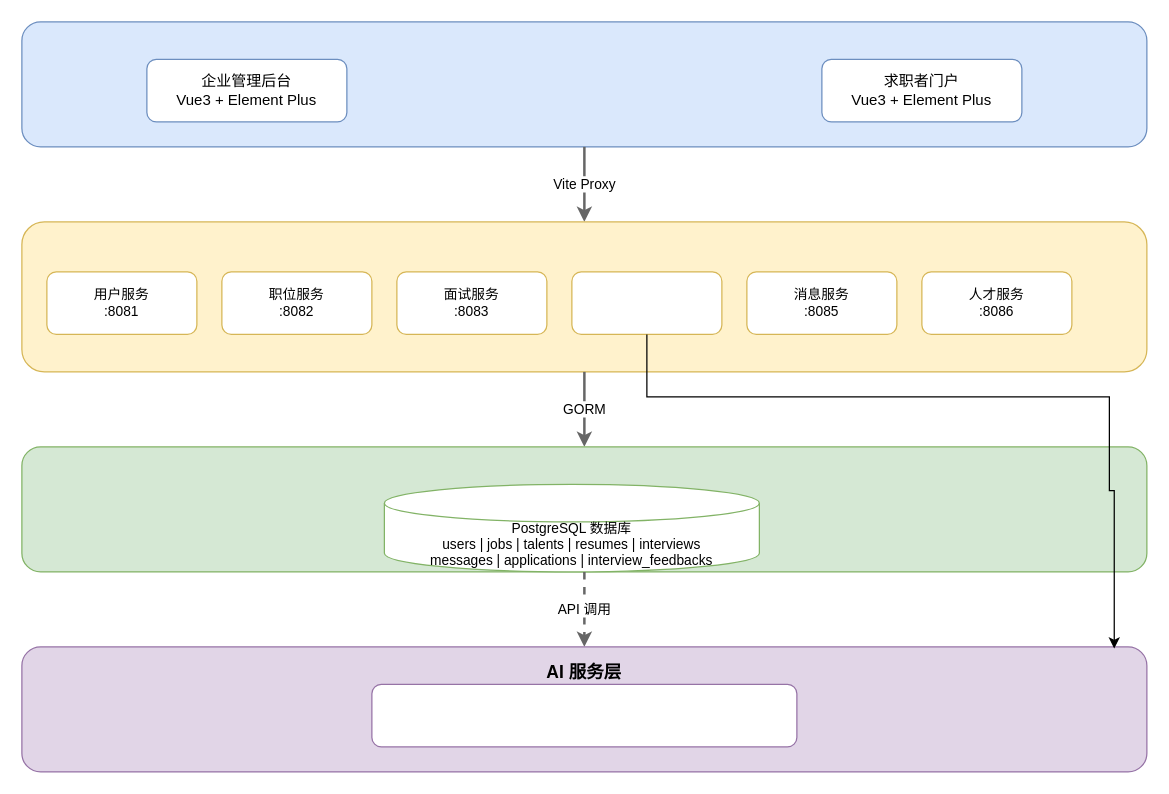
Some shapes in this 1169 by 794 pixel diagram are drawn without their labels. The box of each missing label's shape, as (x1, y1, x2, y2) in pixels:
Coze 工作流平台 简历评估 | 人岗匹配 | 智能推荐: (371, 683, 797, 747)
前端展示层: (21, 21, 1147, 147)
后端服务层 (Go + Gin): (21, 221, 1147, 372)
数据存储层: (21, 446, 1147, 572)
简历服务 :8084: (571, 271, 722, 334)
